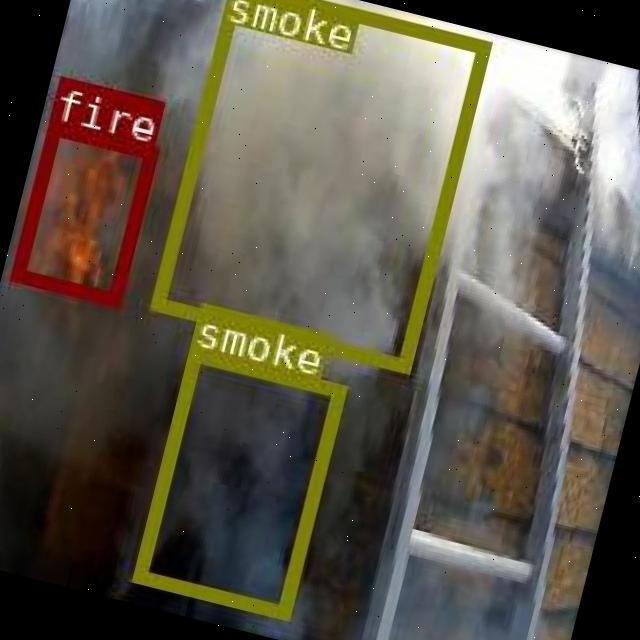fire: (10, 119, 156, 304)
smoke: (149, 0, 489, 368), (132, 347, 343, 618)
